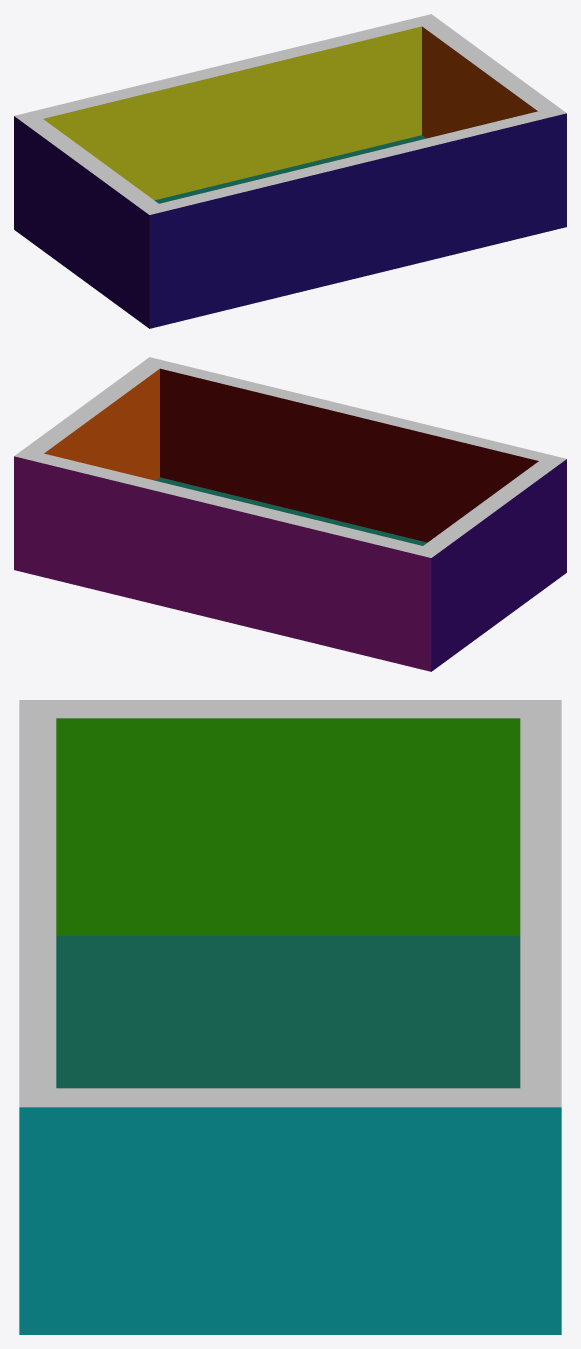
File: PracticeRoom.dae
3 views of the same model, one above another, from view 1: azimuth 30°, elevation 25°; view 2: azimuth 150°, elevation 25°; view 3: azimuth 270°, elevation 25° (orthographic). The views are drawn at different scales.
Visible parts, largest first — view 1: pCube1; view 2: pCube1; view 3: pCube1.
Boxes of the visible parts, box(x1,y1,x2,y2) form: pCube1: box(14, 14, 566, 328); pCube1: box(14, 357, 566, 671); pCube1: box(19, 700, 561, 1334).
Bounding box in the file's own units: 19.2 × 5 × 10.8.
